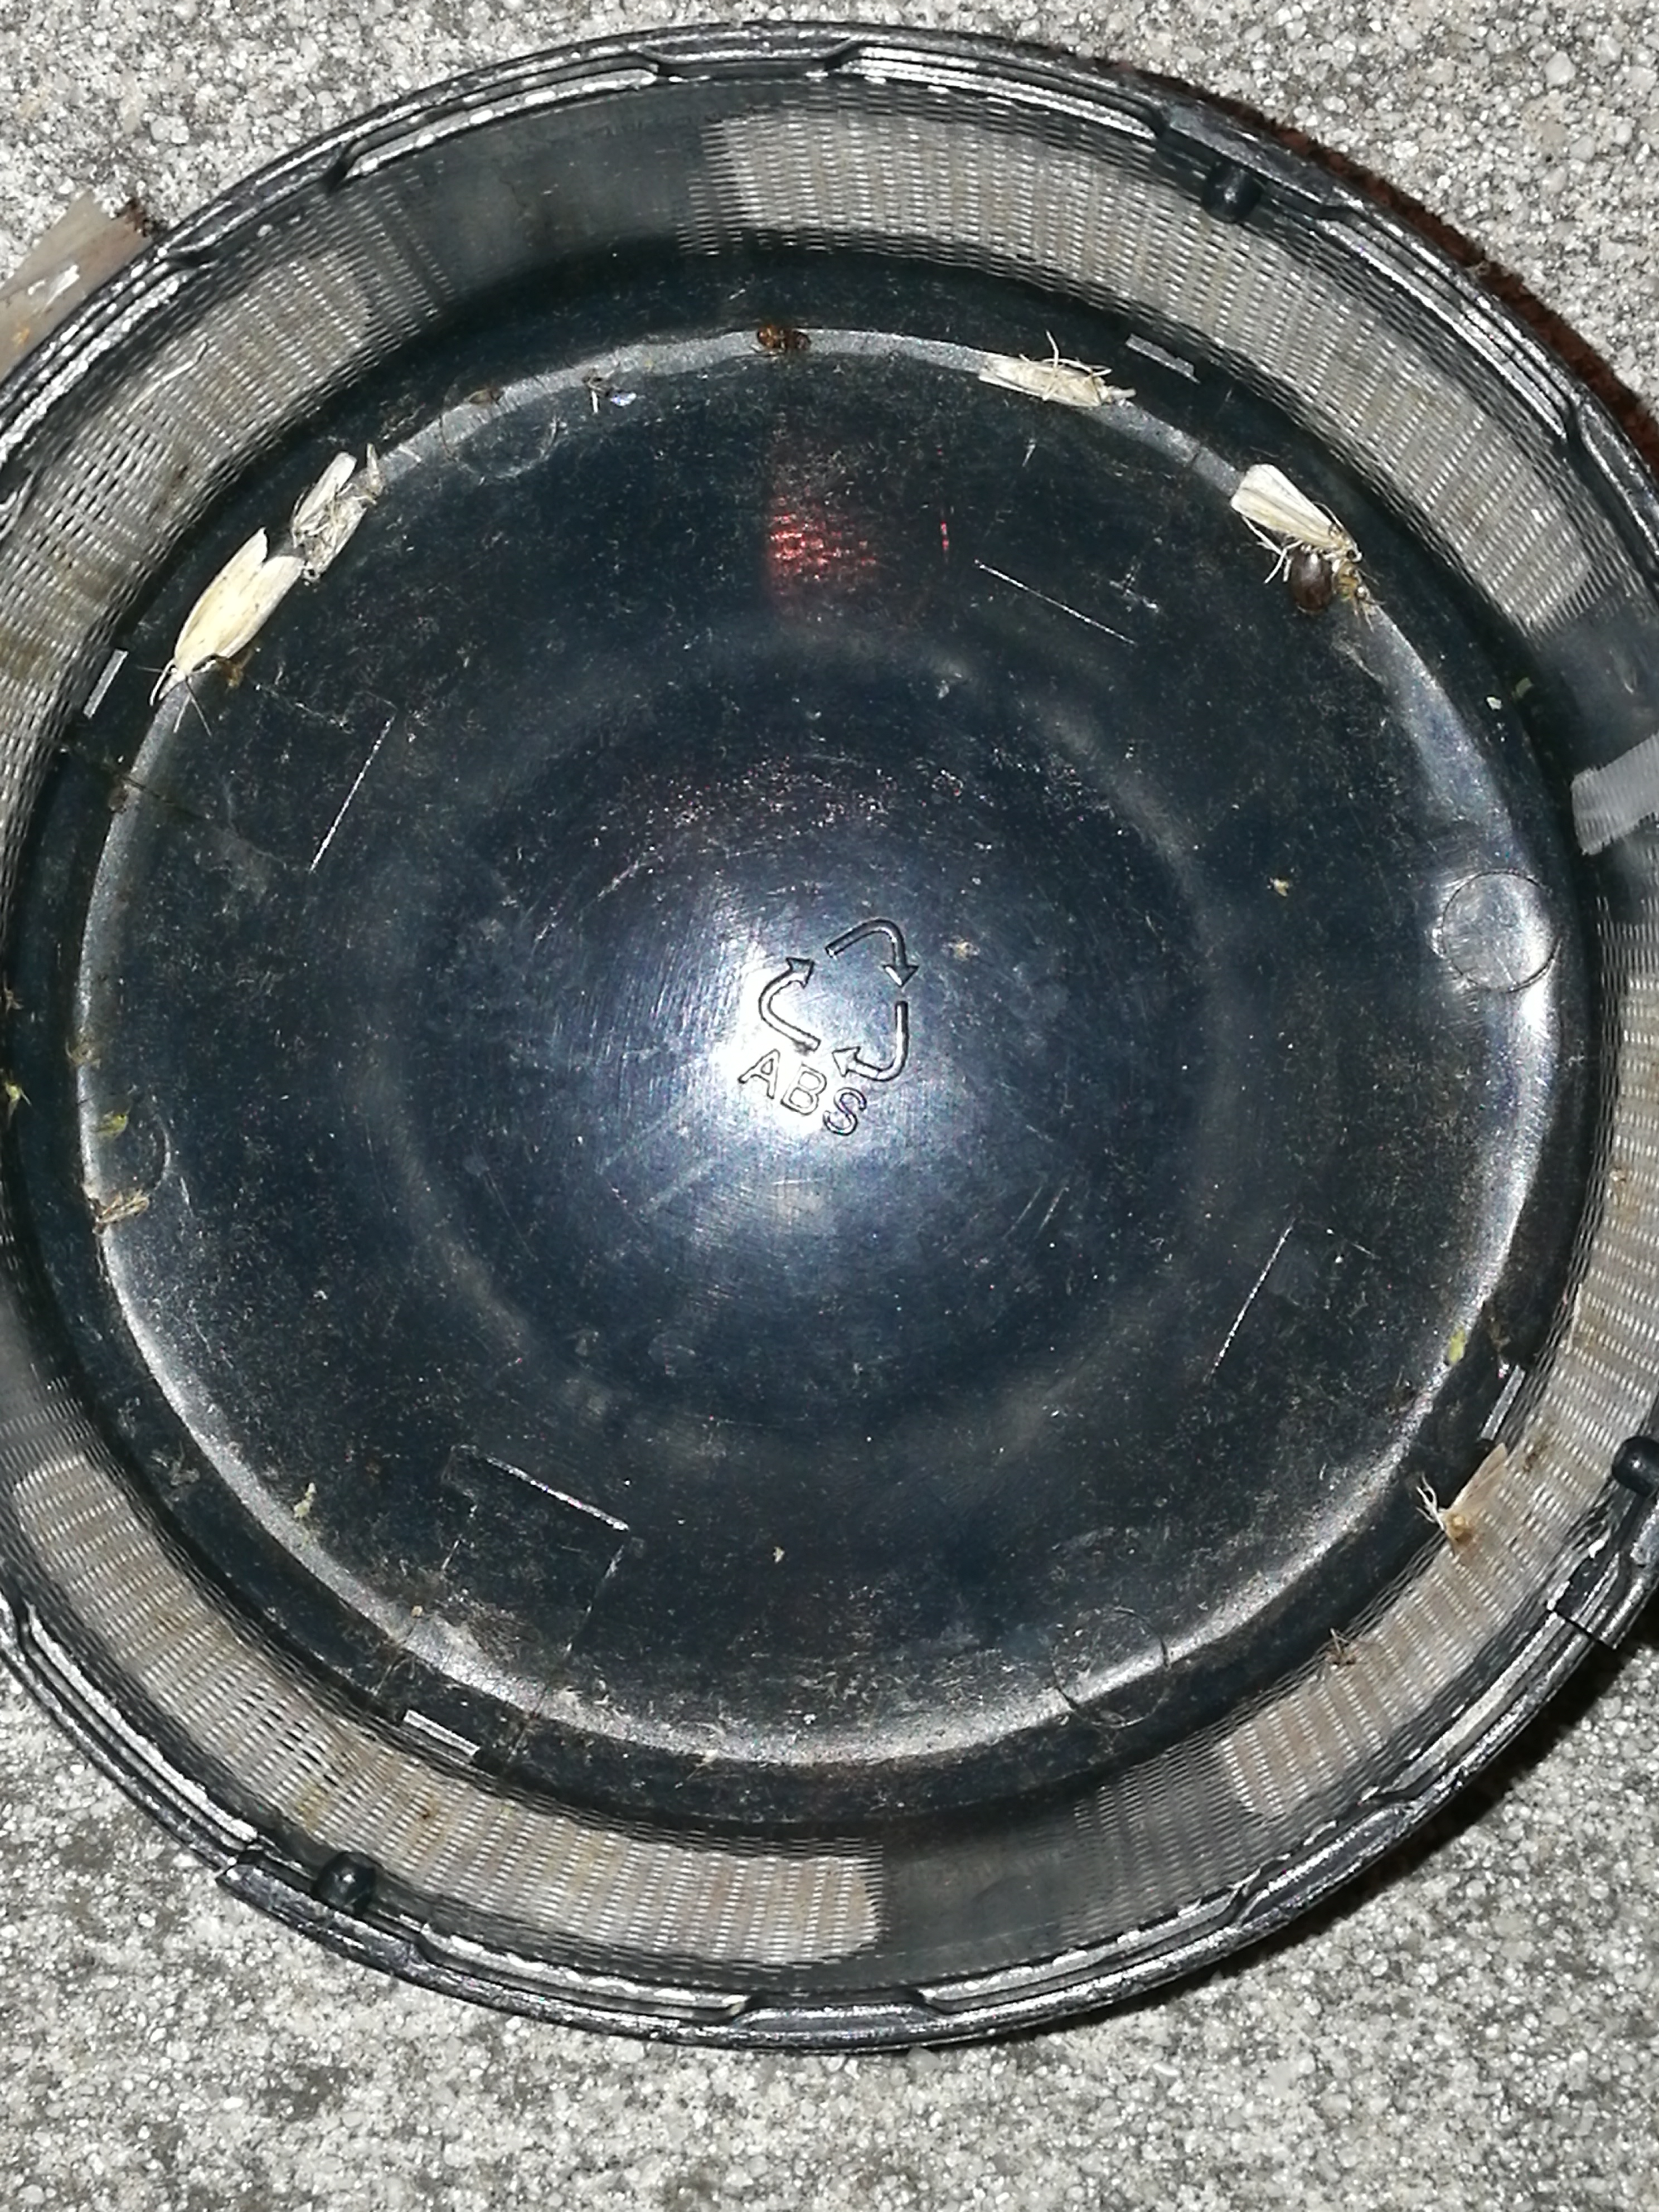beetle: (1290, 543, 1331, 611)
mosquito: (157, 528, 305, 700), (976, 352, 1134, 408), (289, 453, 354, 545), (301, 496, 366, 583)
moth: (1229, 463, 1361, 563)
